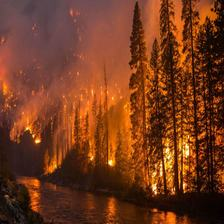fire: (11, 37, 214, 200)
